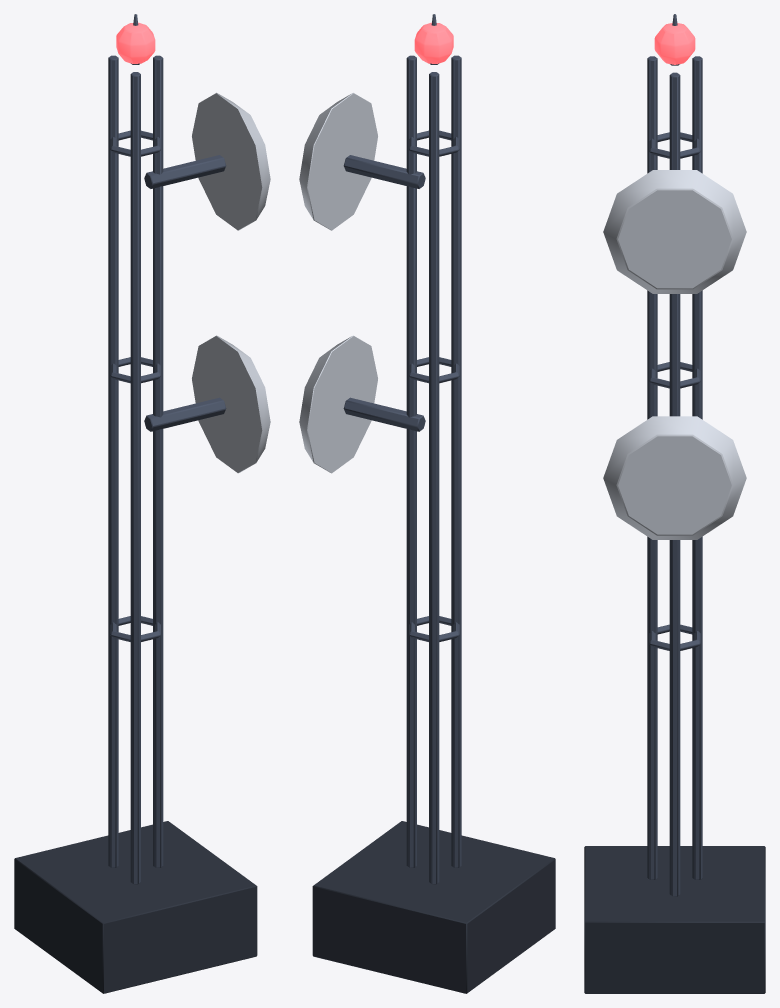
File: antenna.glb
The picture shows the model from 3 angles, left to right: view 1: azimuth 30°, elevation 25°; view 2: azimuth 150°, elevation 25°; view 3: azimuth 270°, elevation 25°; orthographic projection.
Parts seen in each view (by area): view 1: antenna; view 2: antenna; view 3: antenna.
Part boxes in pixels (bbox=[...]): antenna: bbox=[14, 14, 270, 993]; antenna: bbox=[299, 14, 555, 993]; antenna: bbox=[584, 14, 765, 993].
Bounding box in the file's own units: 0.595 × 2.87 × 0.5.
